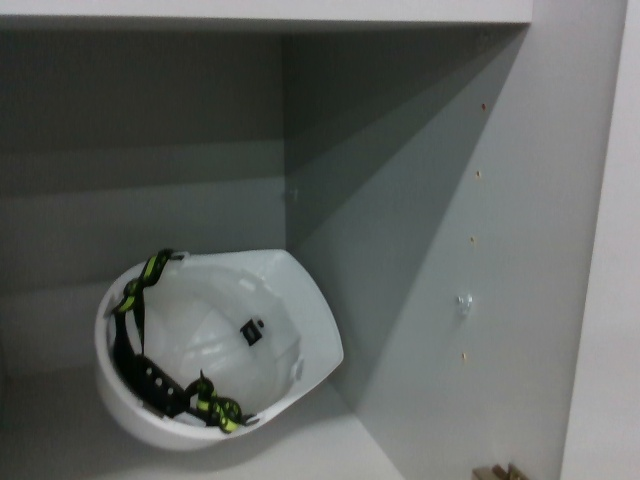helmet: (74, 244, 352, 453)
